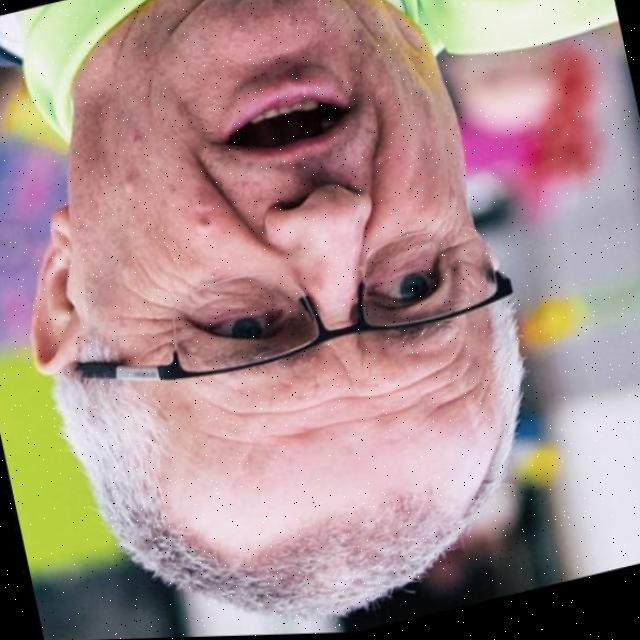puffy_eyes: (370, 239, 444, 276)
